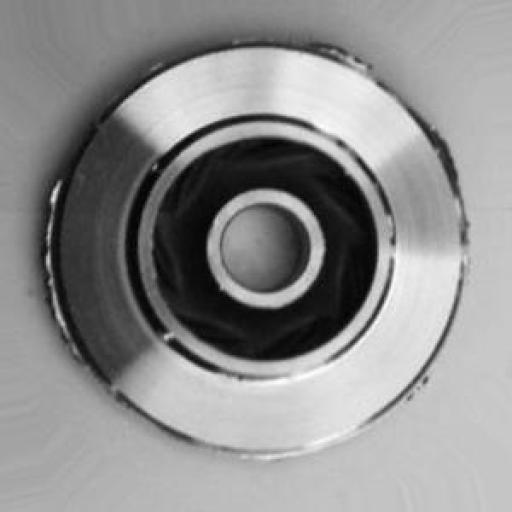defect: (36, 28, 493, 494)
